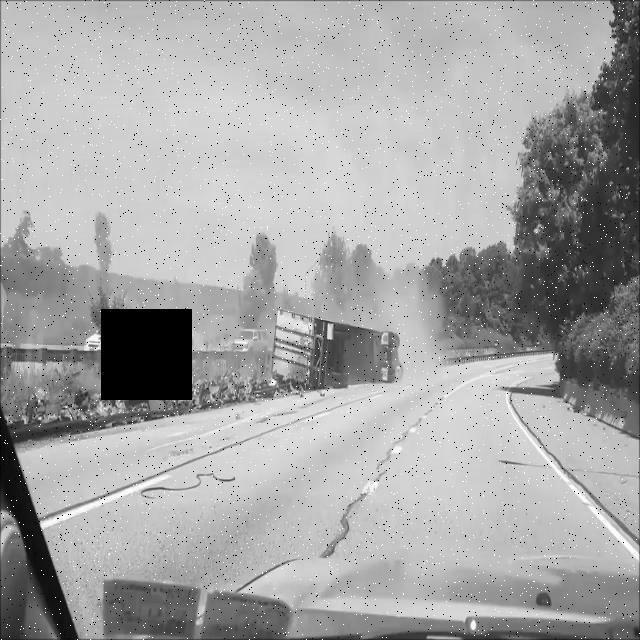person: (252, 292, 428, 406)
